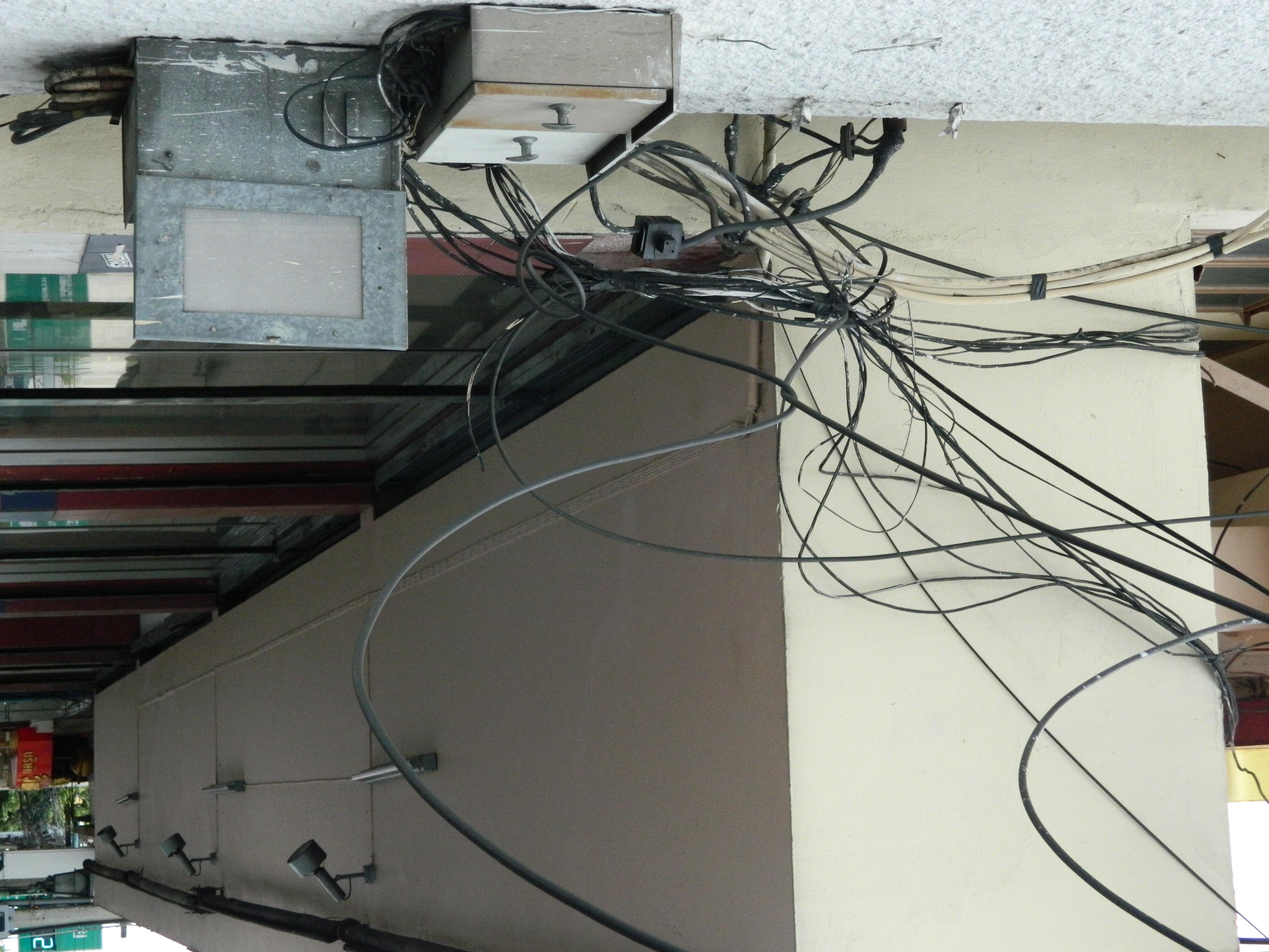wires: (166, 253, 760, 463), (338, 40, 827, 249)
